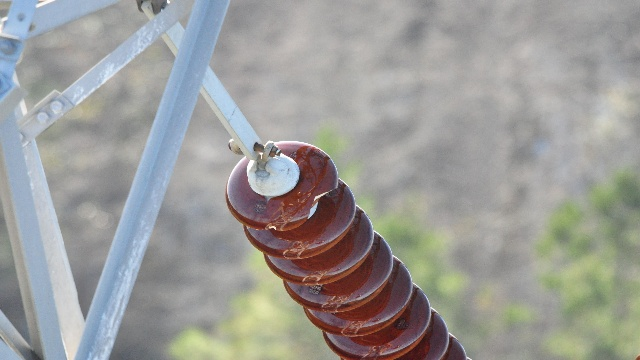broken_local: (267, 183, 338, 232)
insulator_unspecified: (226, 140, 474, 359)
